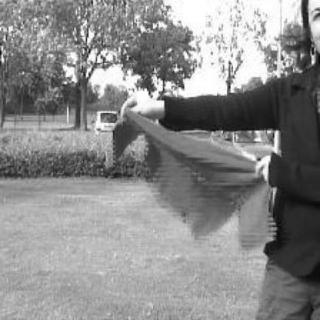other: (94, 99, 288, 268)
